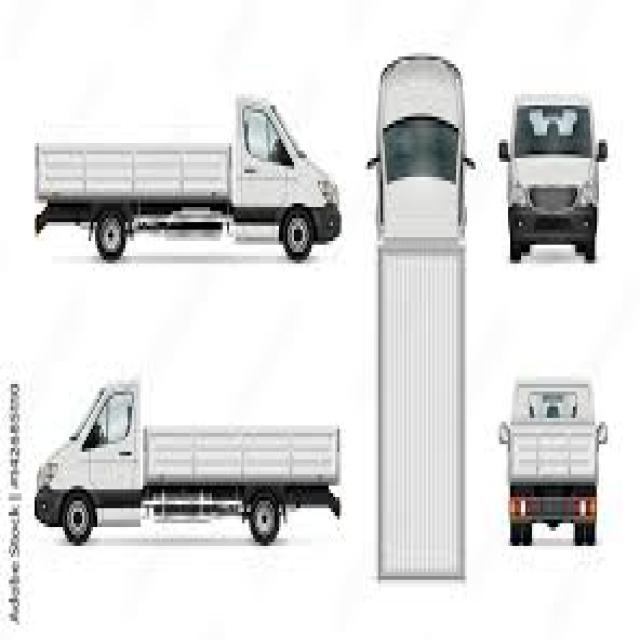truck: (33, 92, 341, 260), (37, 374, 341, 543), (376, 52, 466, 584), (507, 90, 599, 260), (509, 375, 594, 544)
